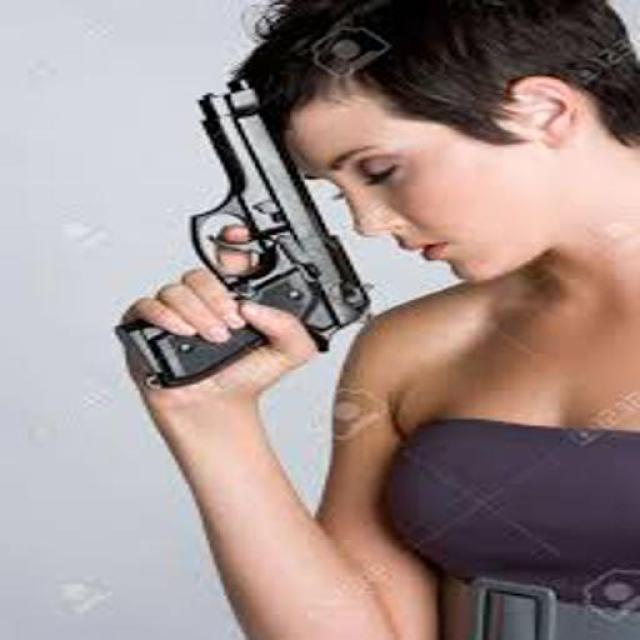pistol: (115, 76, 370, 386)
